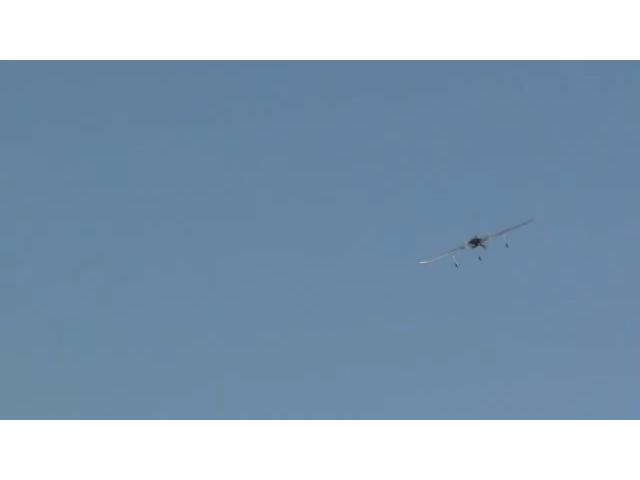Anti-Drone: (421, 218, 532, 266)
